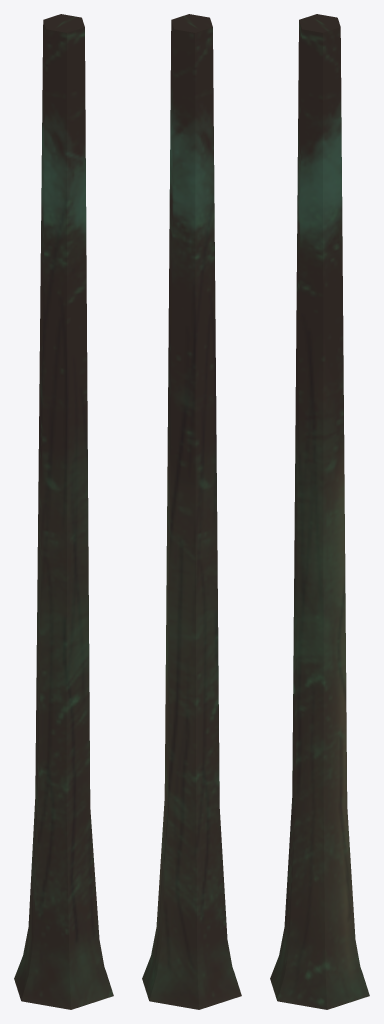
Rendered from polysurface125_lambert6_0.007_lev2.glb.
3 renders of one model, left to right at view 1: azimuth 90°, elevation 25°; view 2: azimuth 150°, elevation 25°; view 3: azimuth 330°, elevation 25°, orthographic.
Parts seen in each view (by area): view 1: polysurface125_lambert6_0.007_lev2; view 2: polysurface125_lambert6_0.007_lev2; view 3: polysurface125_lambert6_0.007_lev2.
Boxes of the visible parts, x1,y1,x2,y2 form: polysurface125_lambert6_0.007_lev2: (14, 14, 113, 1009); polysurface125_lambert6_0.007_lev2: (142, 14, 241, 1009); polysurface125_lambert6_0.007_lev2: (270, 14, 369, 1009).
Size of the model in its own units: 0.9662 by 9.6 by 0.9018.
Materials: 1 (1 with a texture image).
